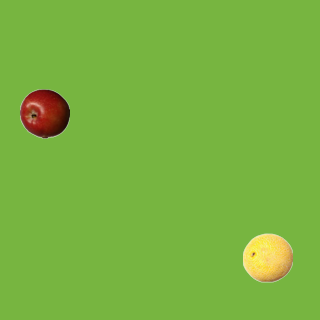Apple Braeburn: (19, 88, 69, 138)
Cantaloupe 1: (242, 232, 292, 282)
